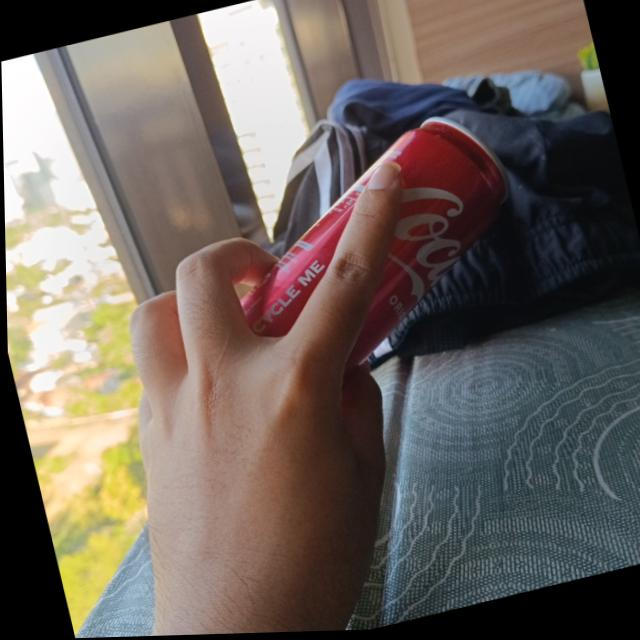coke: (200, 110, 533, 387)
